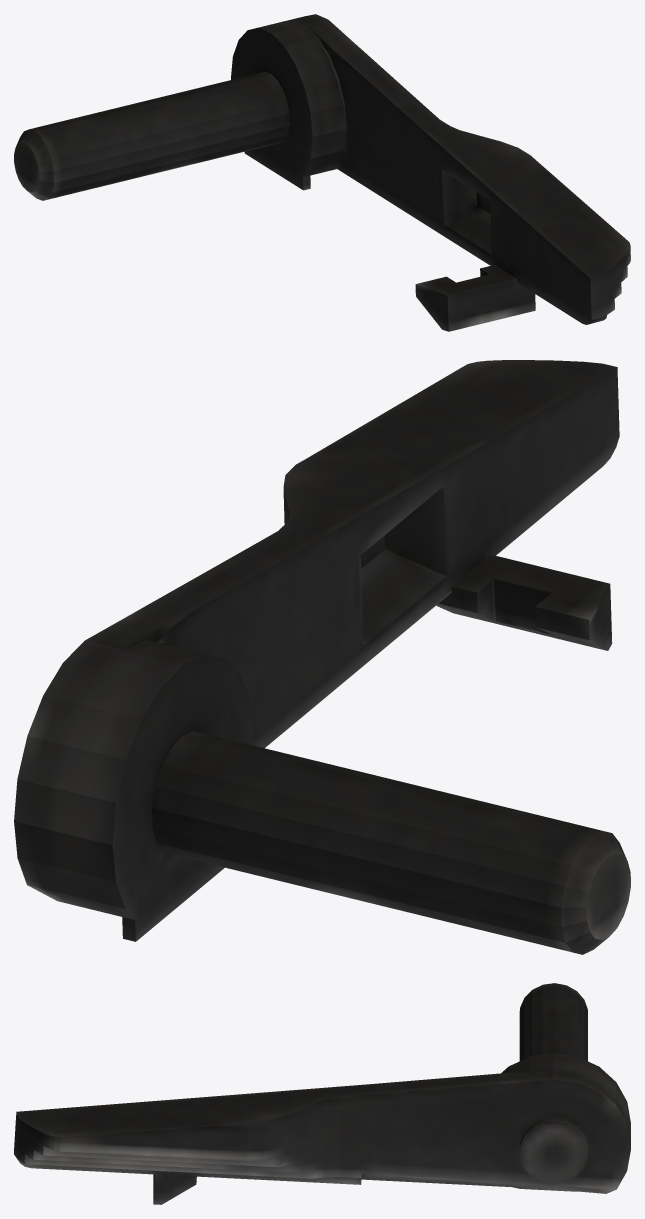
3 renders of one model, top to bottom at view 1: azimuth 30°, elevation 25°; view 2: azimuth 150°, elevation 25°; view 3: azimuth 270°, elevation 25°, orthographic. The views are drawn at different scales.
Parts seen in each view (by area): view 1: TW_6193d5d4f8ee7e52e4210a1b_PZ_Import; view 2: TW_6193d5d4f8ee7e52e4210a1b_PZ_Import; view 3: TW_6193d5d4f8ee7e52e4210a1b_PZ_Import.
Part boxes in pixels (x1,y1,x2,y2): TW_6193d5d4f8ee7e52e4210a1b_PZ_Import: [14, 14, 630, 331]; TW_6193d5d4f8ee7e52e4210a1b_PZ_Import: [14, 360, 630, 954]; TW_6193d5d4f8ee7e52e4210a1b_PZ_Import: [14, 983, 630, 1204].
Size of the model in its own units: 0.0187 by 0.0309 by 0.0073.
1 material, 1 textured.
